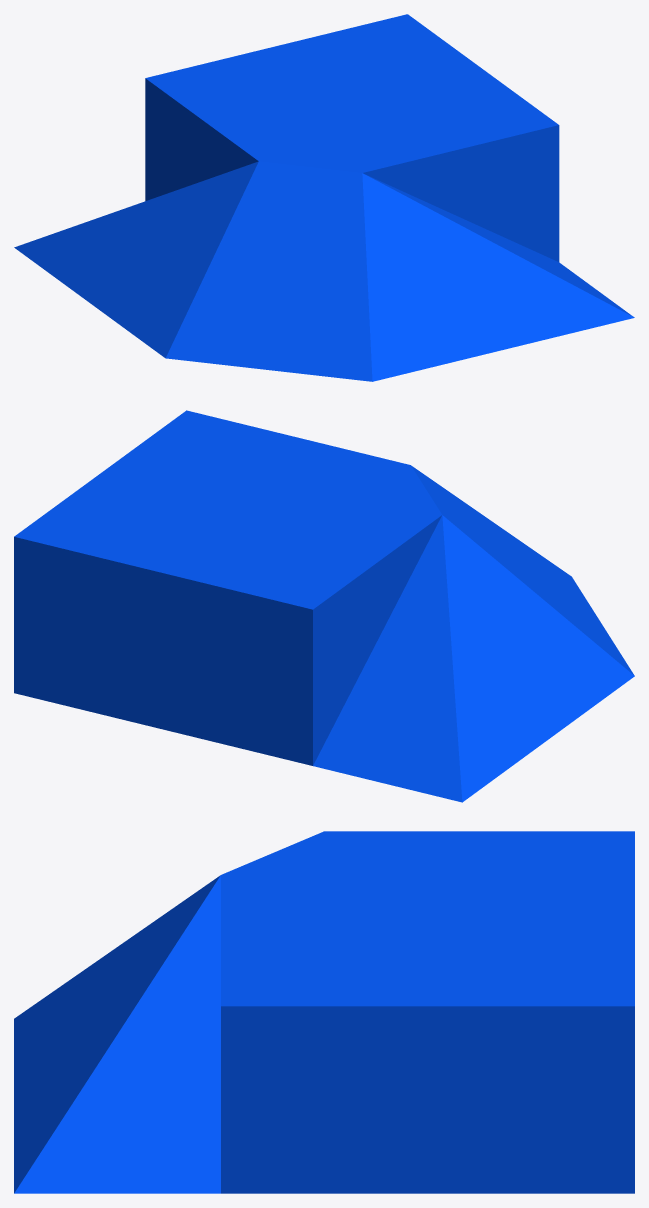
The model's file is COL_Floor-Stairs-Layered-Narrow-Corner-Concave-Deep.FBX.
The picture shows the model from 3 angles, top to bottom: view 1: azimuth 30°, elevation 25°; view 2: azimuth 150°, elevation 25°; view 3: azimuth 270°, elevation 25°; orthographic projection. The views are drawn at different scales.
Parts seen in each view (by area): view 1: COL_Floor-Stairs-Layered-Narrow-Corner-Concave-Deep; view 2: COL_Floor-Stairs-Layered-Narrow-Corner-Concave-Deep; view 3: COL_Floor-Stairs-Layered-Narrow-Corner-Concave-Deep.
Boxes of the visible parts, <box> form: COL_Floor-Stairs-Layered-Narrow-Corner-Concave-Deep: <box>14,14,634,381</box>; COL_Floor-Stairs-Layered-Narrow-Corner-Concave-Deep: <box>14,410,634,802</box>; COL_Floor-Stairs-Layered-Narrow-Corner-Concave-Deep: <box>14,831,634,1193</box>.
Size of the model in its own units: 30 by 10 by 30.
